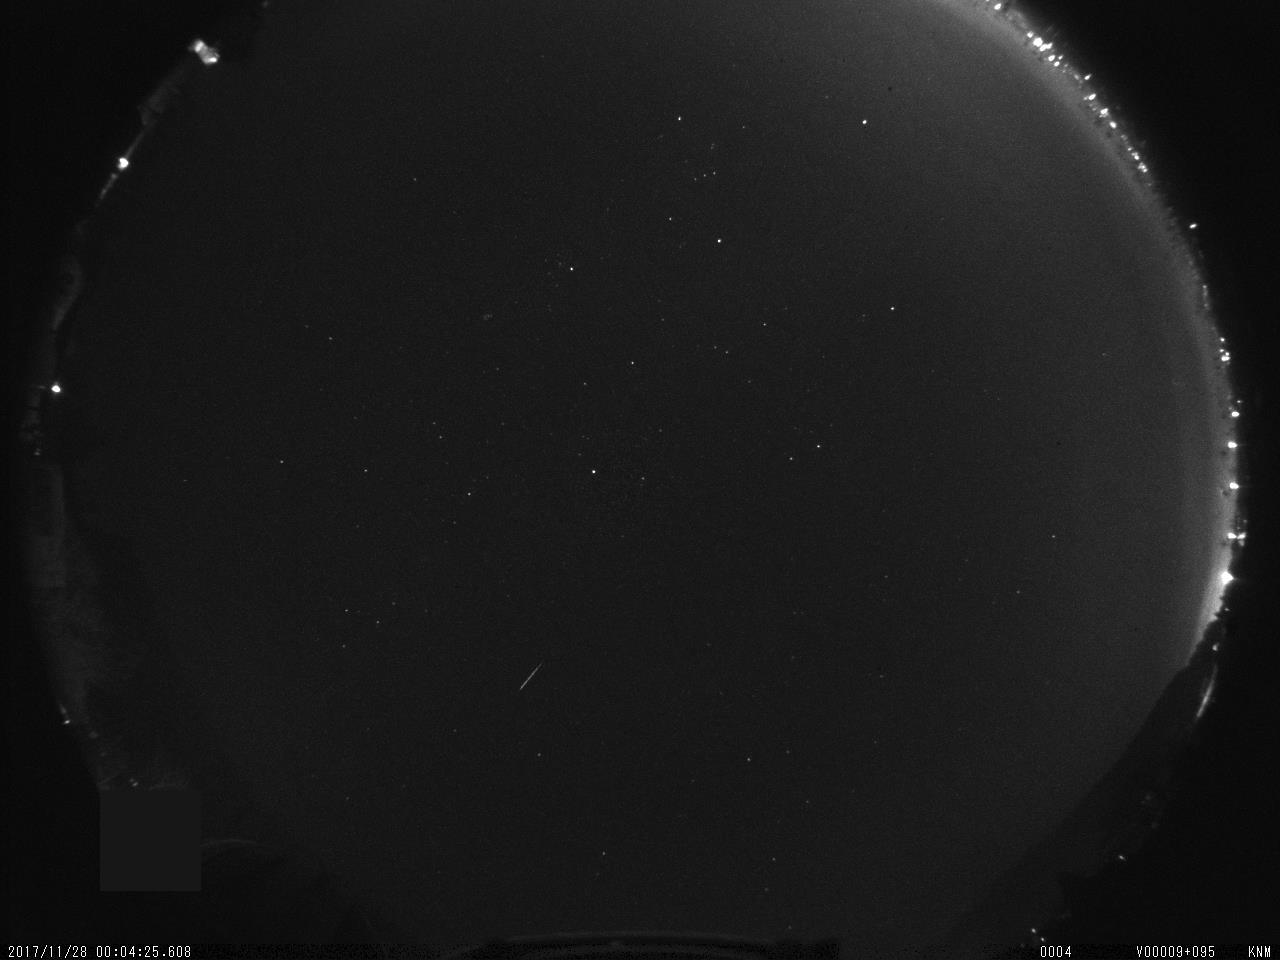meteor: (504, 659, 560, 700)
